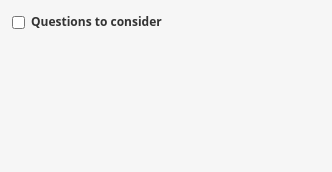
Checkbox › toggles on click and on Space and reports the new value
Click the checkbox labelled "Questions to consider". click: (18, 22)
box: [12,16,25,29]
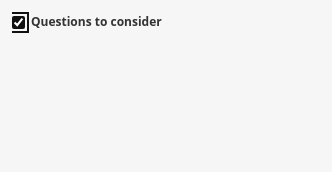
Check: the checkbox labelled "Questions to consider" is checked, box [12,16,25,29]
Type keys " "
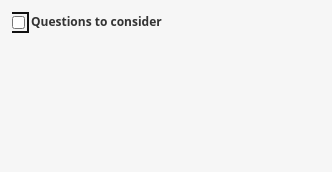
Check: the checkbox labelled "Questions to consider" is not checked, box [12,16,25,29]
